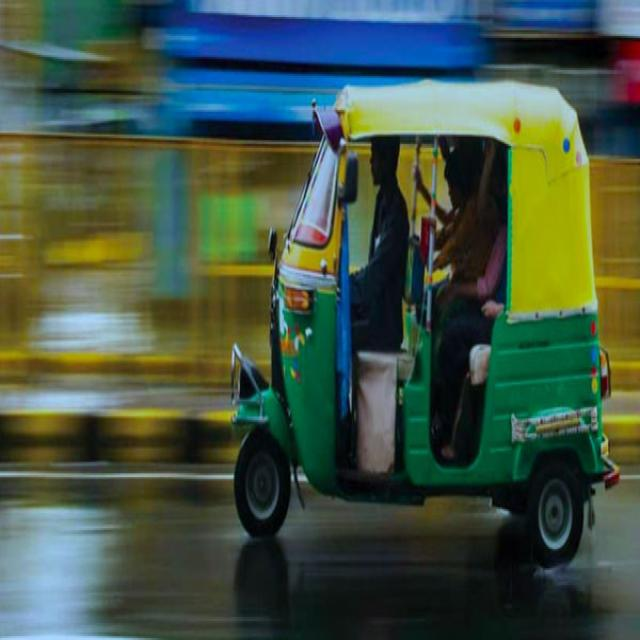autorickshaw: (232, 80, 619, 567)
